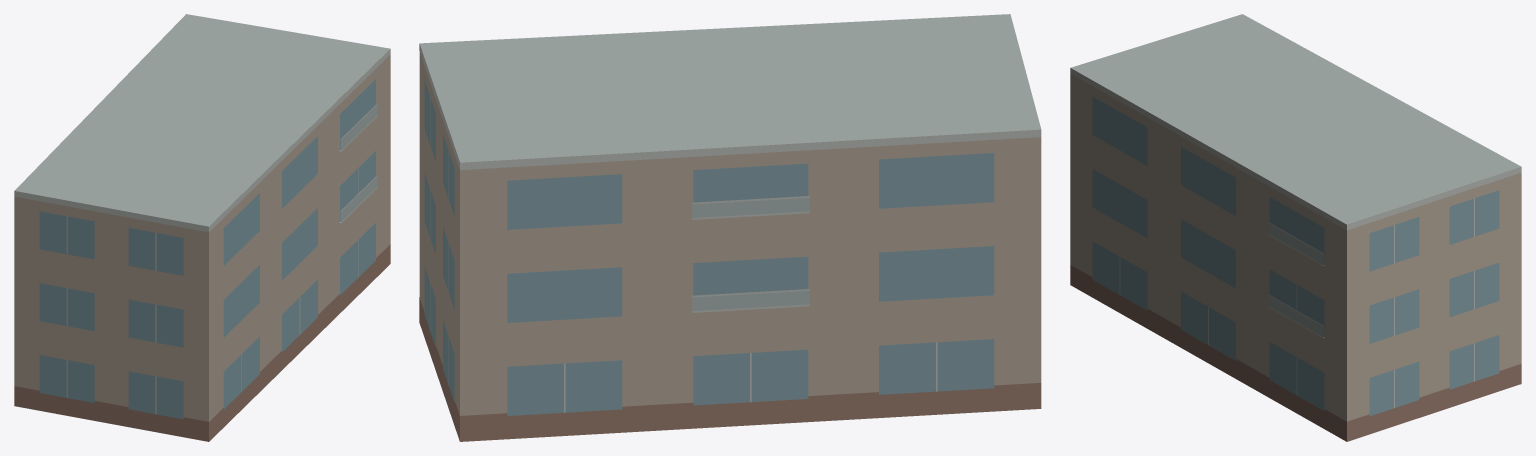
The model's file is survey-upis-32815535.glb.
3 renders of one model, left to right at view 1: azimuth 30°, elevation 25°; view 2: azimuth 150°, elevation 25°; view 3: azimuth 270°, elevation 25°, orthographic. The views are drawn at different scales.
Visible parts, largest first — view 1: survey-upis-32815535.tmp; view 2: survey-upis-32815535.tmp; view 3: survey-upis-32815535.tmp.
Boxes of the visible parts, x1=… form: survey-upis-32815535.tmp: x1=14, y1=14, x2=390, y2=441; survey-upis-32815535.tmp: x1=419, y1=14, x2=1041, y2=441; survey-upis-32815535.tmp: x1=1070, y1=14, x2=1521, y2=441.
Bounding box in the file's own units: 19.04 × 9.15 × 17.24.
